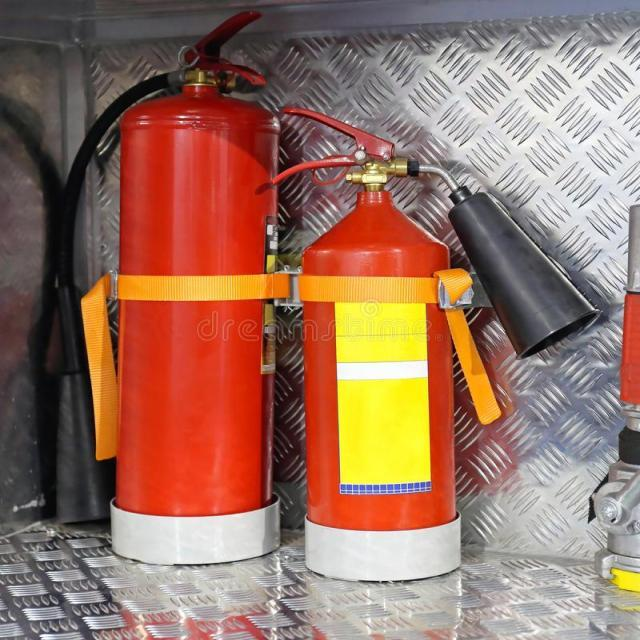fire_extinguisher: (255, 96, 608, 590), (31, 7, 296, 575)
